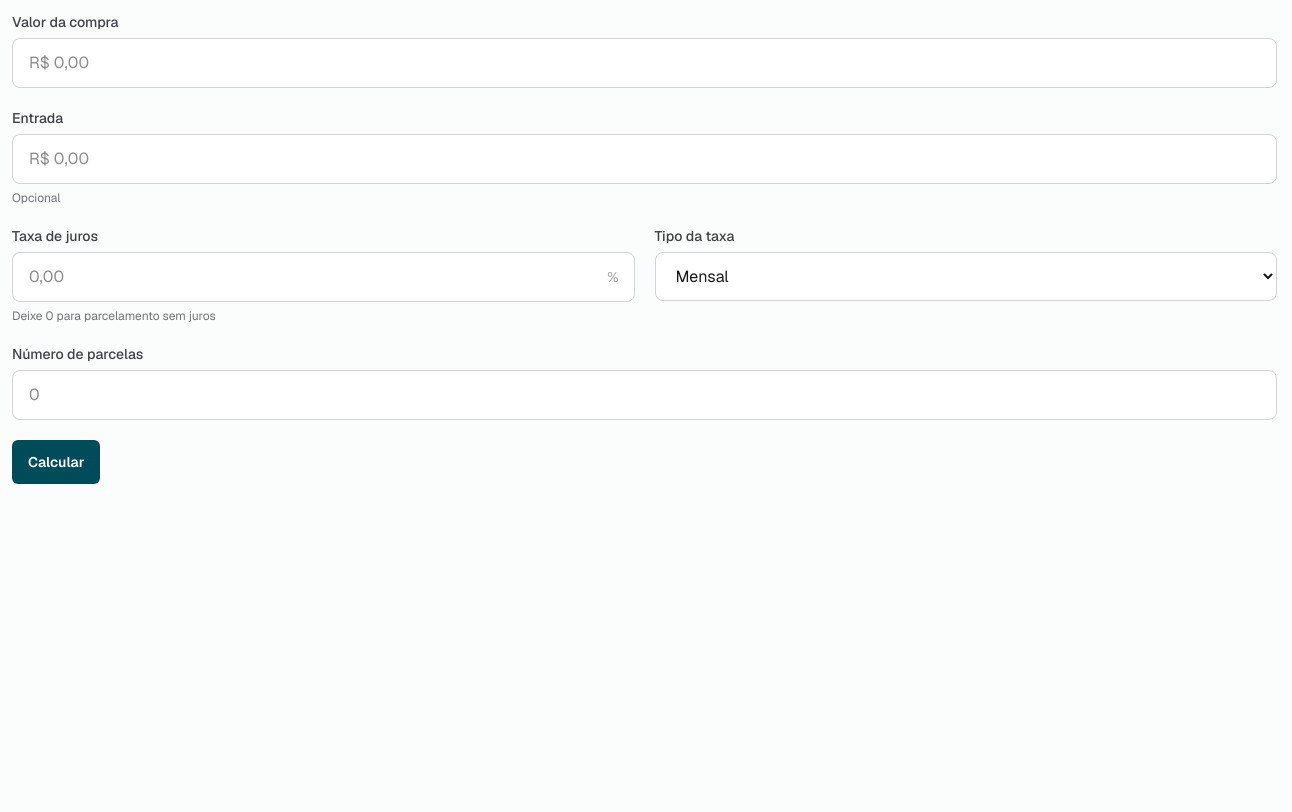
Test: ParcelamentoTool — resultado › mostra o valor da parcela e o resumo do parcelamento
This screenshot has width=1292, height=812.
In the field labelled "Valor da compra": [644, 63] box [12, 38, 1277, 88], type "1000000"
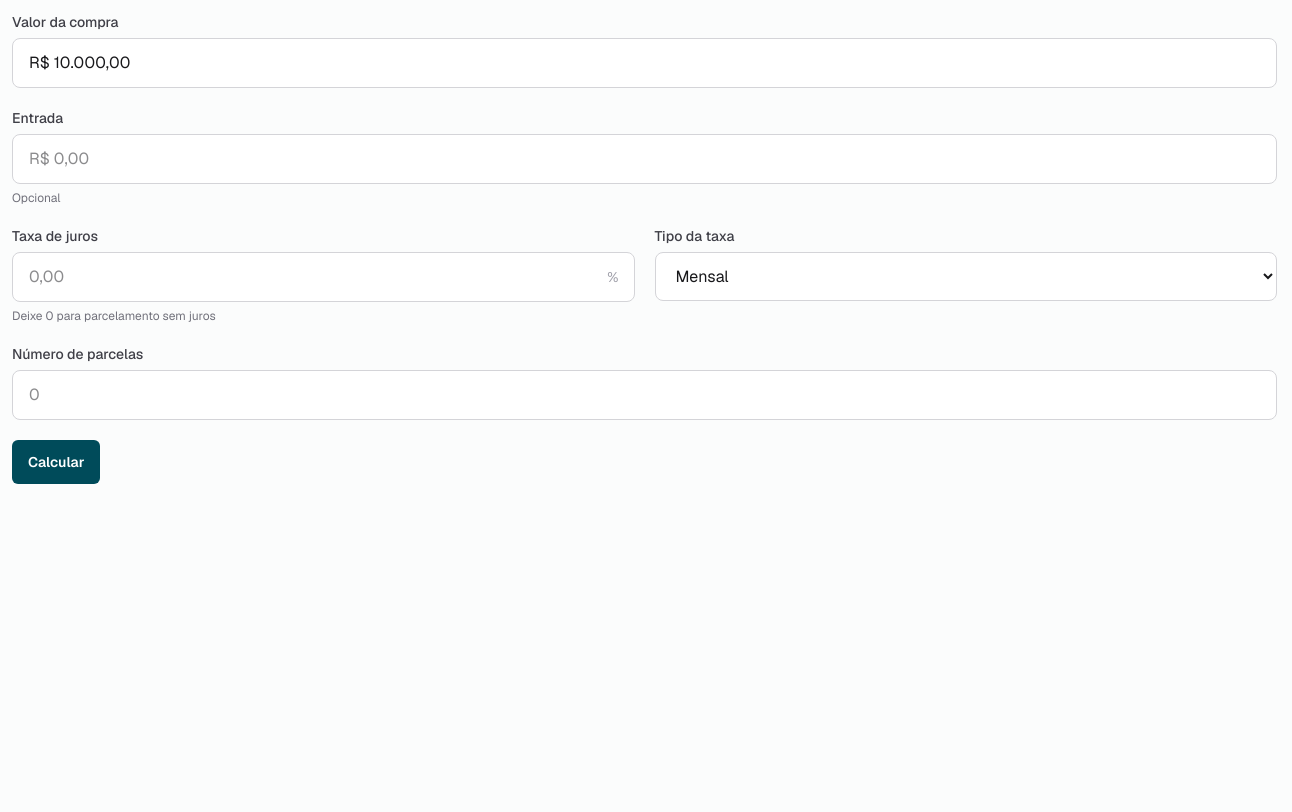
In the field labelled "Taxa de juros": [323, 277] box [12, 252, 634, 302], type "2"
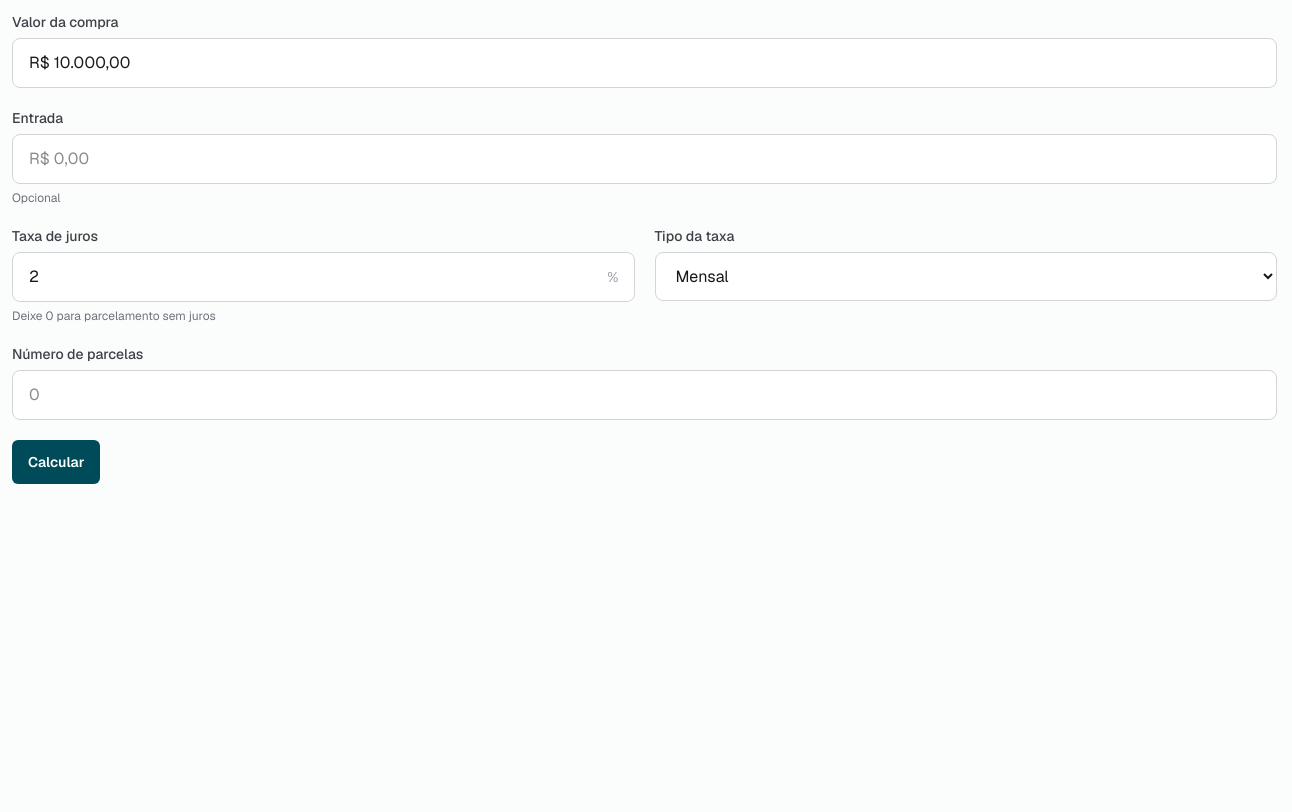
In the field labelled "Número de parcelas": [644, 395] box [12, 370, 1277, 420], type "12"
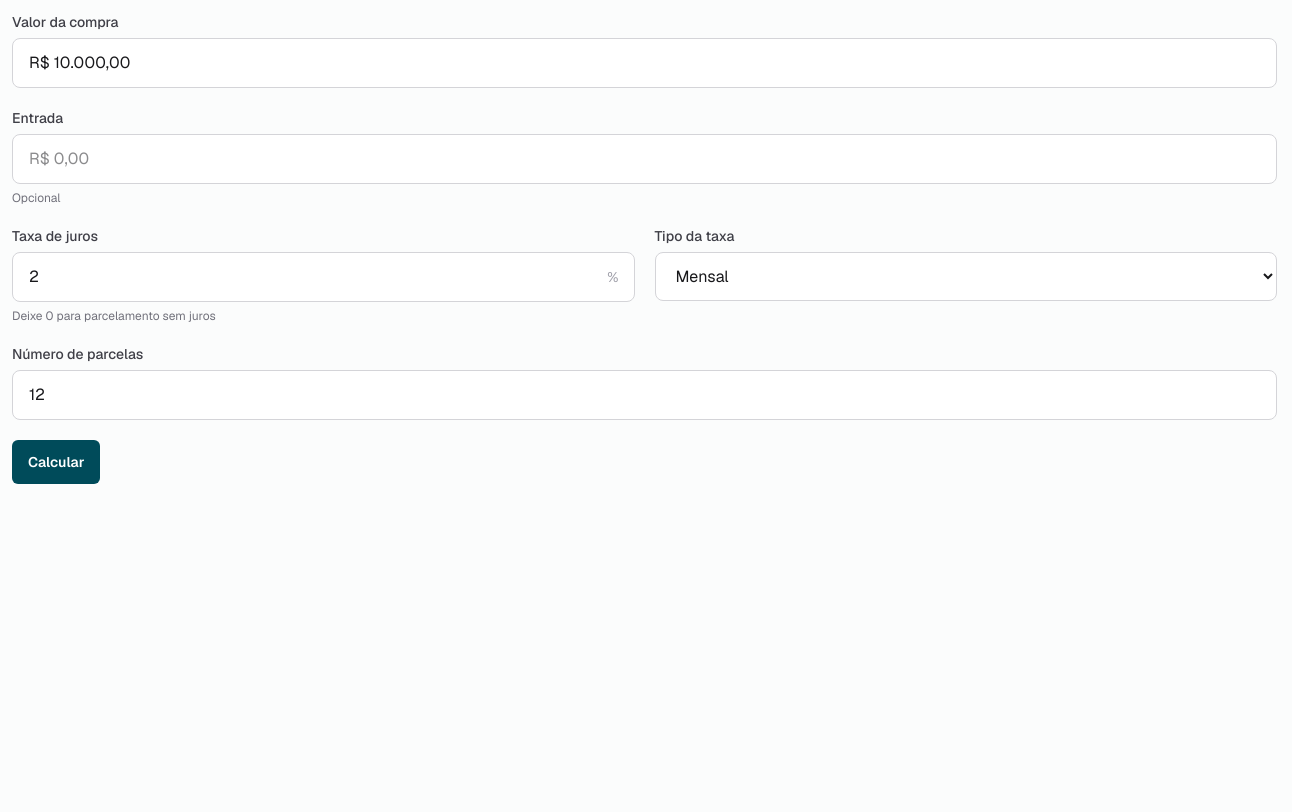
Click the button "Calcular": [56, 462] box [12, 440, 100, 484]
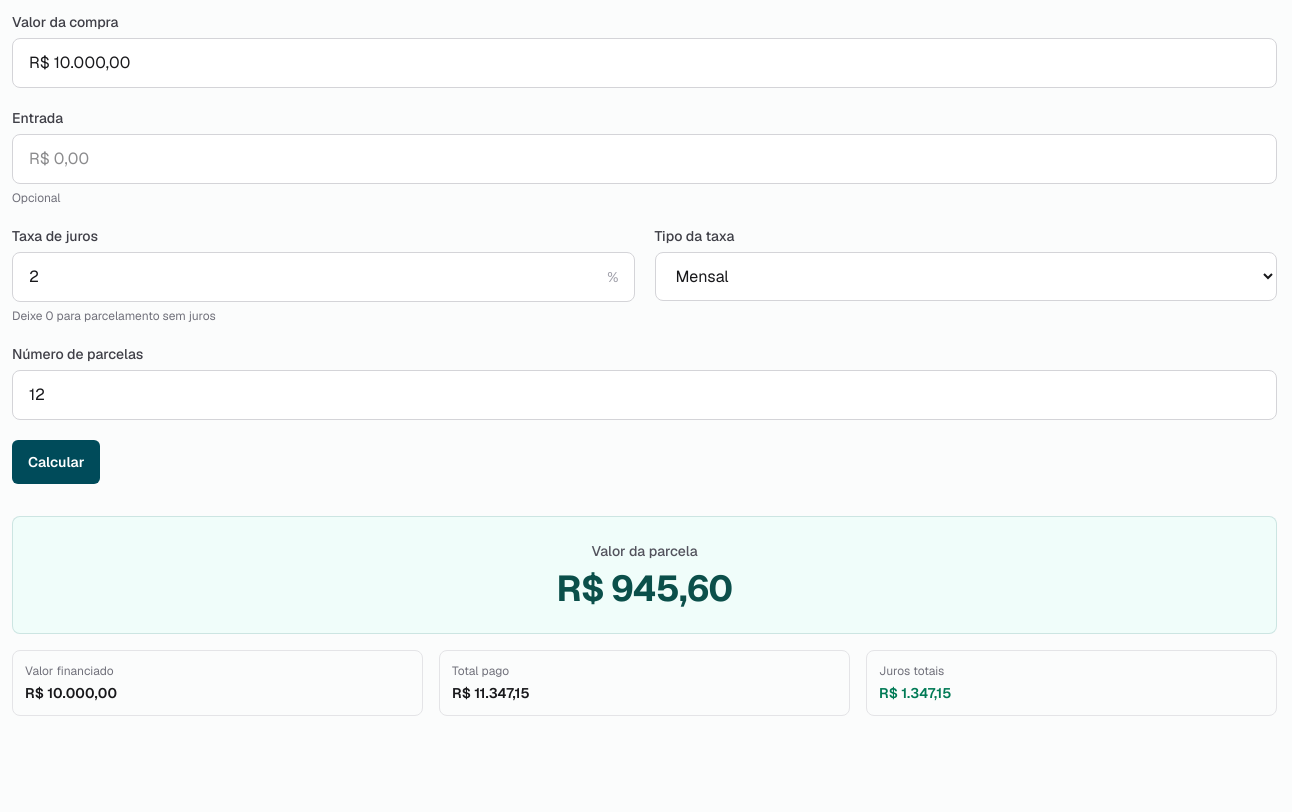
Check: the text "Valor da parcela" is shown, box [591, 542, 698, 560]
Check: the text "Total pago" is shown, box [452, 663, 509, 679]
Check: the text "Juros totais" is shown, box [879, 663, 944, 679]
